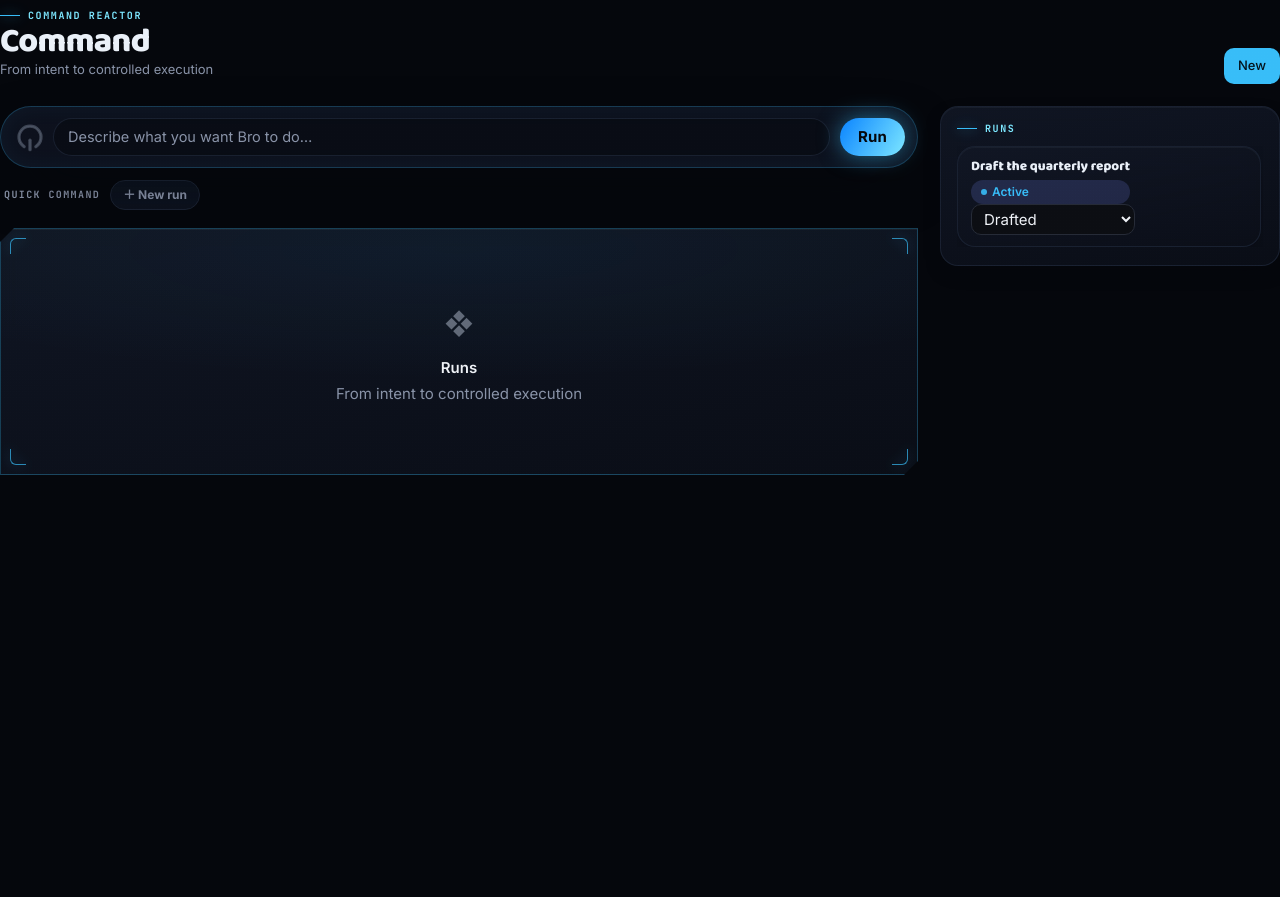
Test: Command — what the backend sends down the channel › a refusal delivered as an error FRAME is shown as a refusal
Click the button "Draft the quarterly report Active" at {"x": 1051, "y": 181}, box [971,158,1130,204]
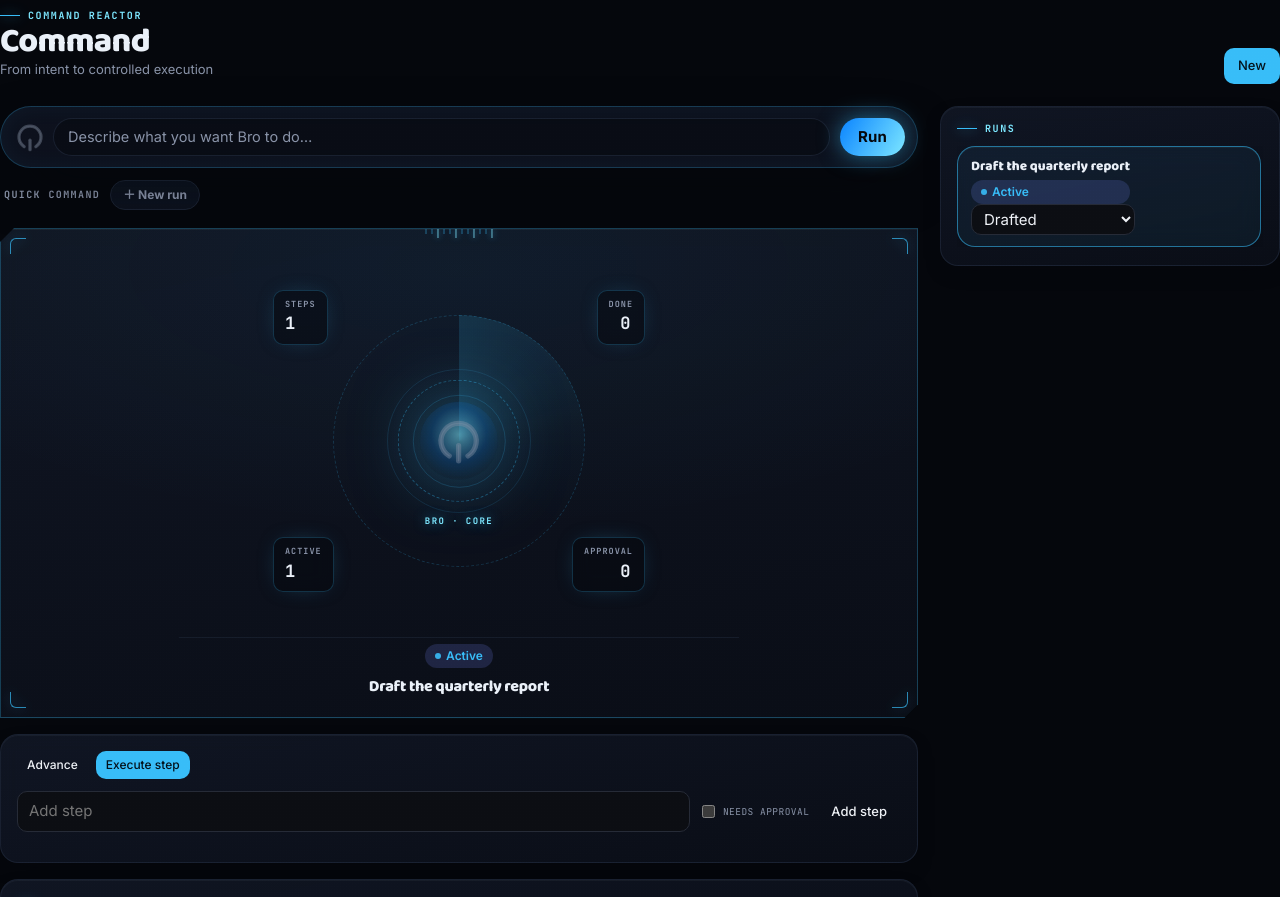
Click the button "Execute step" at {"x": 143, "y": 766}, box [96,752,190,780]
(page scrolled)
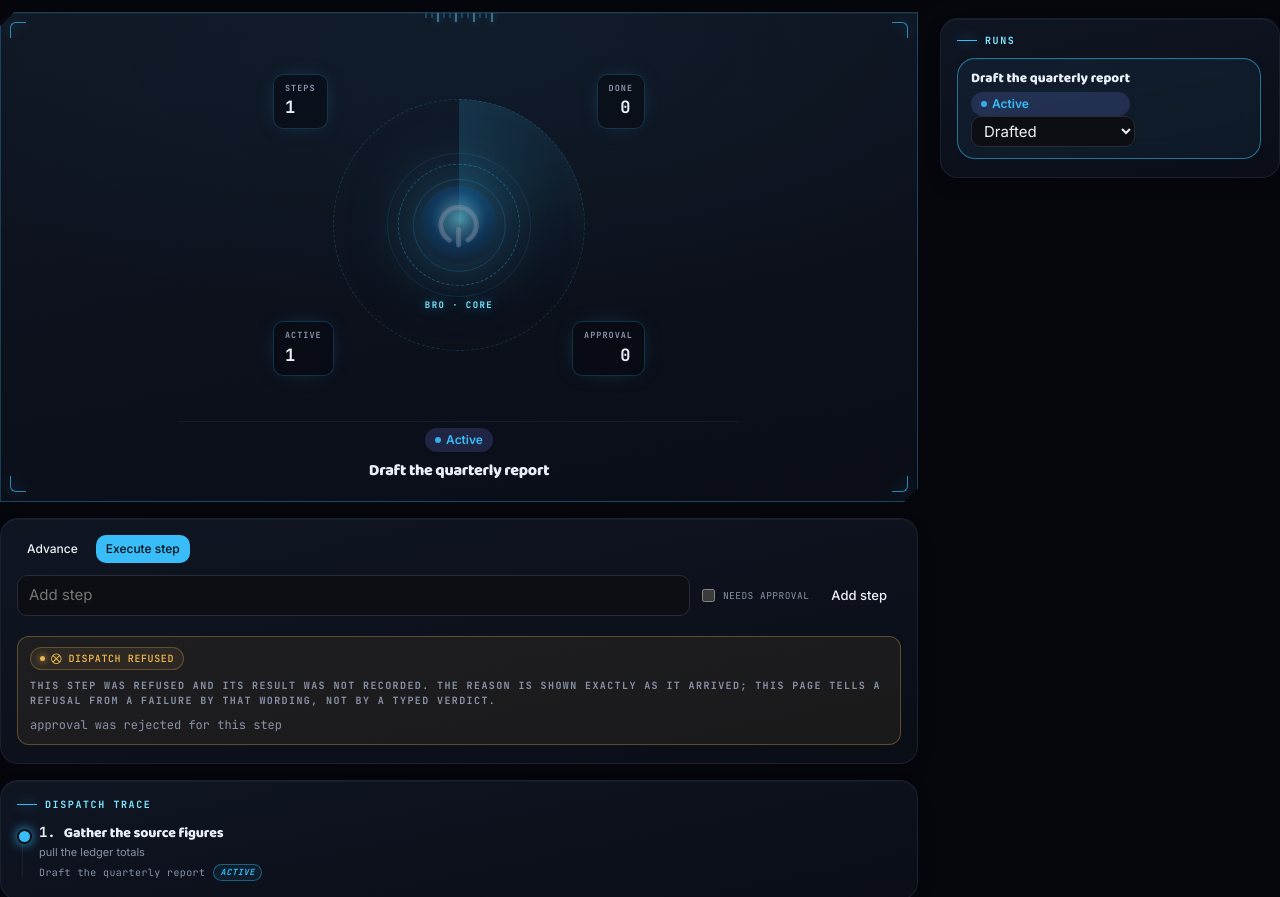
Expected: the message shows "approval was rejected for this step", [30,717,282,733]
